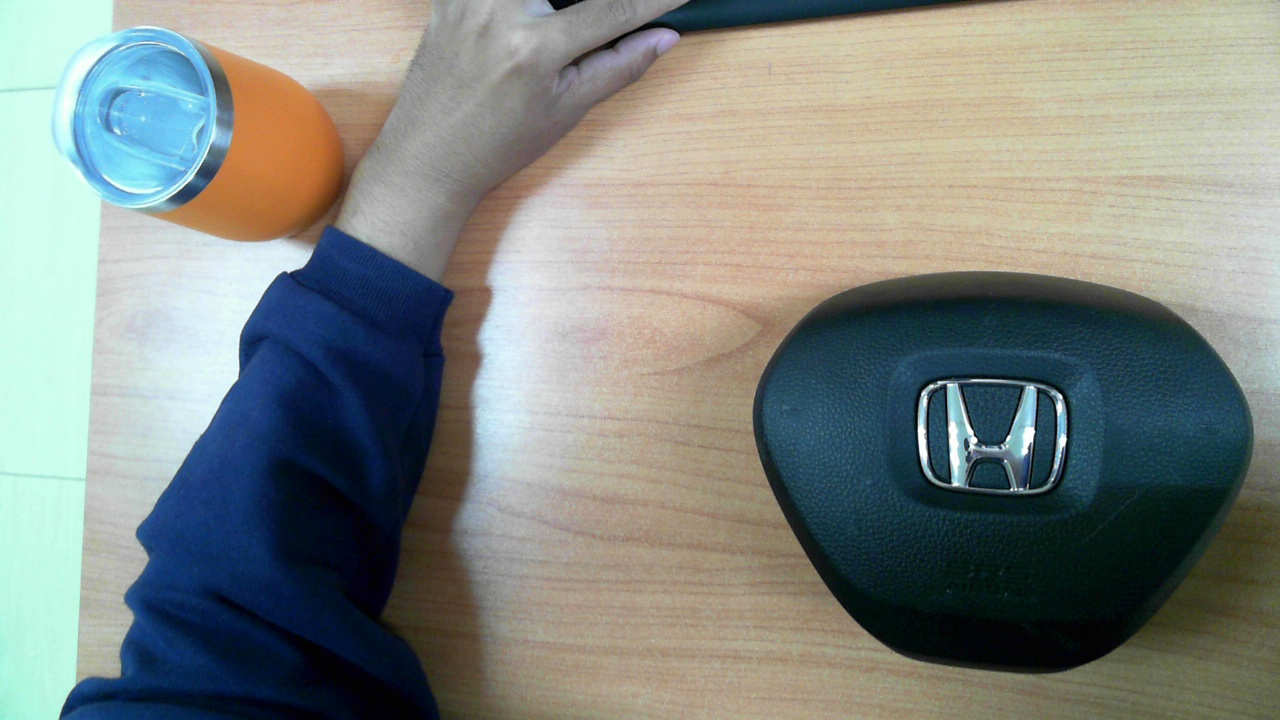Airbag: (754, 272, 1254, 674)
